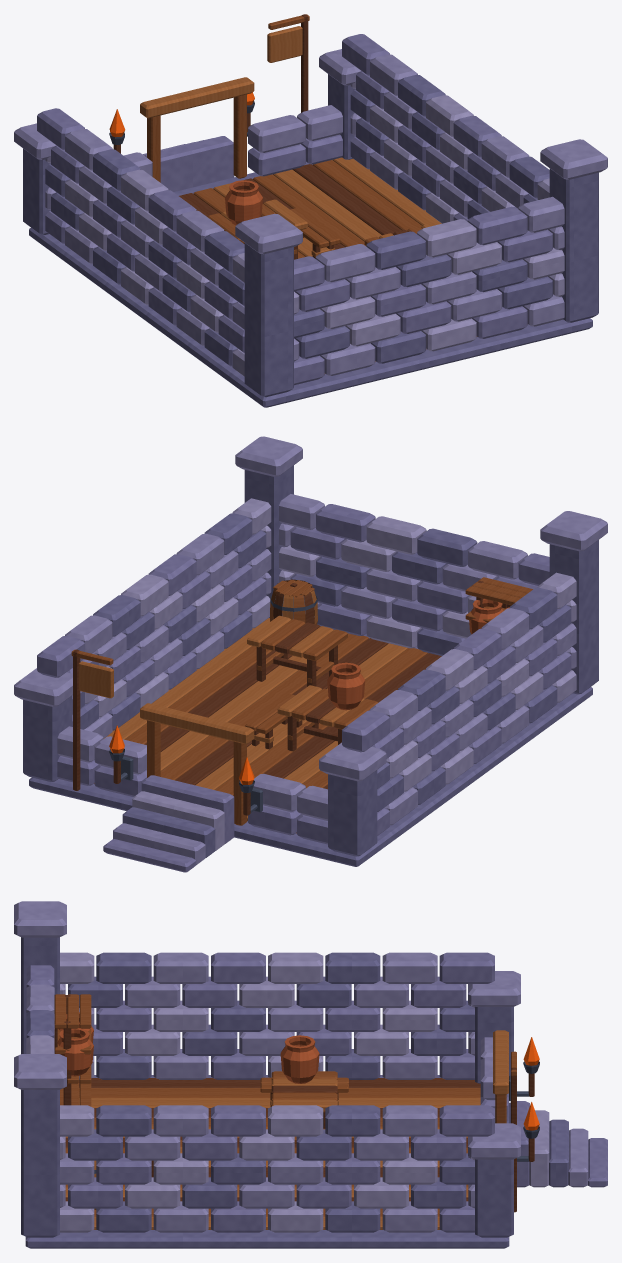
Rendered from Building_Tavern.obj.
3 renders of one model, top to bottom at view 1: azimuth 30°, elevation 25°; view 2: azimuth 150°, elevation 25°; view 3: azimuth 270°, elevation 25°, orthographic. The views are drawn at different scales.
Visible parts, largest first — view 1: Rear_masonry, West_masonry, East_masonry, Corner_piers, Floor_planks, Foundation, Pier_caps, Low_front_wall, Entrance_steps_Steps, Entrance_lintel, Entrance_posts, Table_jar_Hollow_jar (+4 smaller); view 2: West_masonry, East_masonry, Rear_masonry, Floor_planks, Corner_piers, Entrance_steps_Steps, Low_front_wall, Pier_caps, Foundation, Table_B_Tabletop_planks, Table_A_Tabletop_planks, Entrance_lintel (+9 smaller); view 3: East_masonry, West_masonry, Corner_piers, Floor_planks, Foundation, Pier_caps, Entrance_steps_Steps, Rear_masonry, Tavern_shelf_Shelves, Table_A_Tabletop_planks, Table_jar_Hollow_jar, Shelf_jar_-2.1_Hollow_jar (+4 smaller).
Part boxes in pixels (x1=…): Rear_masonry: x1=294, y1=196, x2=564, y2=385; West_masonry: x1=37, y1=108, x2=244, y2=376; East_masonry: x1=342, y1=34, x2=549, y2=223; Corner_piers: x1=23, y1=74, x2=598, y2=397; Floor_planks: x1=179, y1=157, x2=477, y2=361; Foundation: x1=29, y1=162, x2=592, y2=407; Pier_caps: x1=14, y1=49, x2=607, y2=254; Low_front_wall: x1=124, y1=105, x2=342, y2=176; Entrance_steps_Steps: x1=143, y1=136, x2=234, y2=191; Entrance_lintel: x1=140, y1=77, x2=254, y2=118; Entrance_posts: x1=147, y1=94, x2=246, y2=182; Table_jar_Hollow_jar: x1=225, y1=180, x2=262, y2=225; West_masonry: x1=342, y1=572, x2=576, y2=835; East_masonry: x1=37, y1=498, x2=271, y2=738; Rear_masonry: x1=279, y1=494, x2=549, y2=655; Floor_planks: x1=94, y1=618, x2=441, y2=833; Corner_piers: x1=23, y1=465, x2=598, y2=856; Entrance_steps_Steps: x1=103, y1=775, x2=234, y2=872; Low_front_wall: x1=57, y1=726, x2=327, y2=844; Pier_caps: x1=14, y1=436, x2=607, y2=781; Foundation: x1=29, y1=633, x2=592, y2=866; Table_B_Tabletop_planks: x1=247, y1=615, x2=347, y2=660; Table_A_Tabletop_planks: x1=277, y1=685, x2=378, y2=729; Entrance_lintel: x1=140, y1=703, x2=254, y2=744; East_masonry: x1=60, y1=1105, x2=494, y2=1232; West_masonry: x1=60, y1=952, x2=494, y2=1079; Corner_piers: x1=21, y1=937, x2=513, y2=1237; Floor_planks: x1=65, y1=1078, x2=480, y2=1229; Foundation: x1=25, y1=1075, x2=509, y2=1248; Pier_caps: x1=14, y1=901, x2=520, y2=1159; Entrance_steps_Steps: x1=509, y1=1101, x2=607, y2=1187; Rear_masonry: x1=26, y1=965, x2=54, y2=1053; Tavern_shelf_Shelves: x1=54, y1=994, x2=91, y2=1106; Table_A_Tabletop_planks: x1=271, y1=1071, x2=337, y2=1112; Table_jar_Hollow_jar: x1=280, y1=1035, x2=319, y2=1083; Shelf_jar_-2.1_Hollow_jar: x1=57, y1=1028, x2=93, y2=1076.
Bounding box in the file's own units: 8.9 × 4.28 × 12.77.
11 materials, 11 textured.
